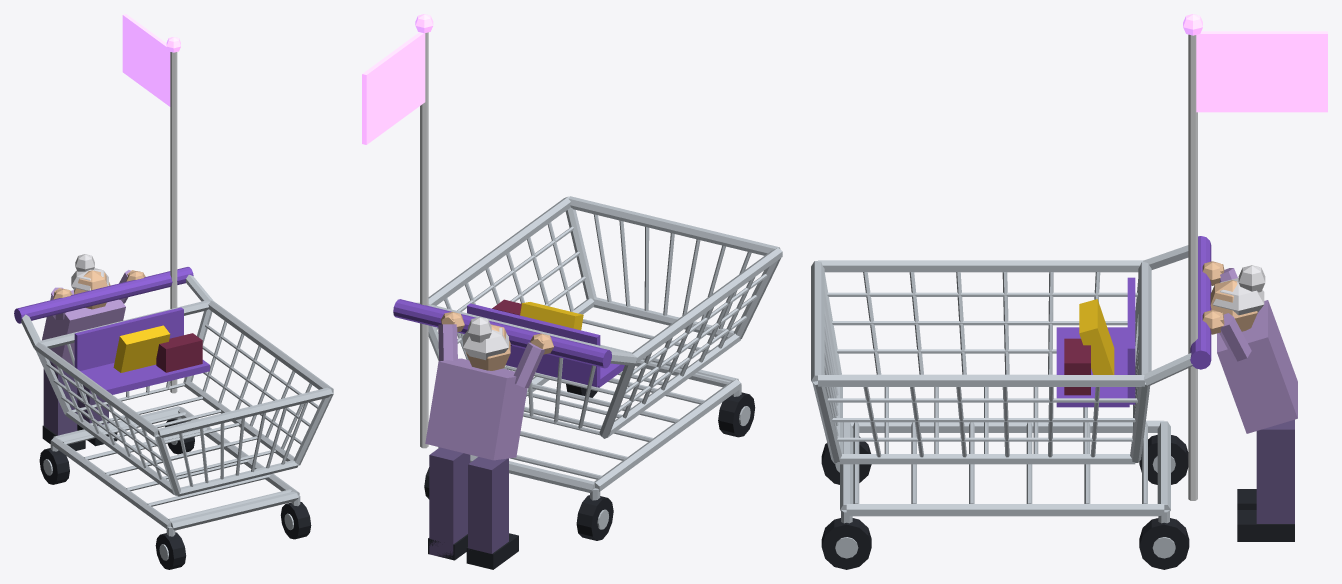
The model's file is cart-rival-grandma.glb.
The picture shows the model from 3 angles, left to right: view 1: azimuth 30°, elevation 25°; view 2: azimuth 150°, elevation 25°; view 3: azimuth 270°, elevation 25°; orthographic projection. The views are drawn at different scales.
Visible parts, largest first — view 1: cart-rival-grandma; view 2: cart-rival-grandma; view 3: cart-rival-grandma.
Part boxes in pixels (bbox=[...]): cart-rival-grandma: bbox=[14, 14, 333, 569]; cart-rival-grandma: bbox=[362, 14, 782, 569]; cart-rival-grandma: bbox=[811, 14, 1327, 569].
Size of the model in its own units: 1.47 by 3.18 by 2.68.
